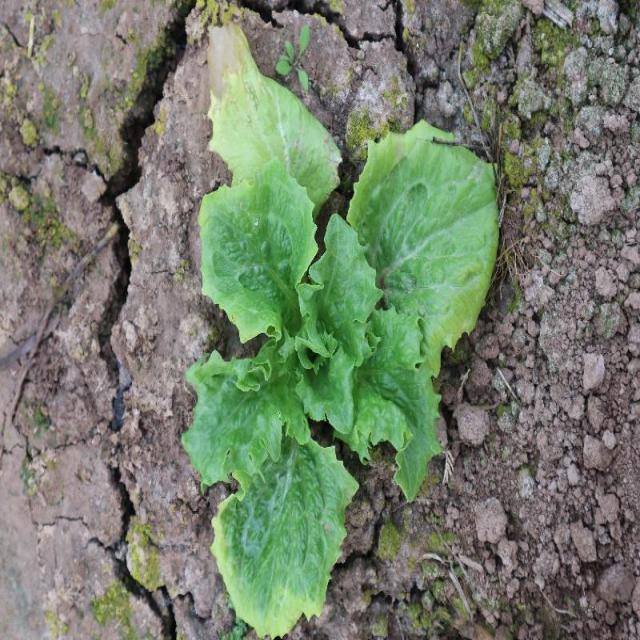crop: (180, 71, 502, 640)
